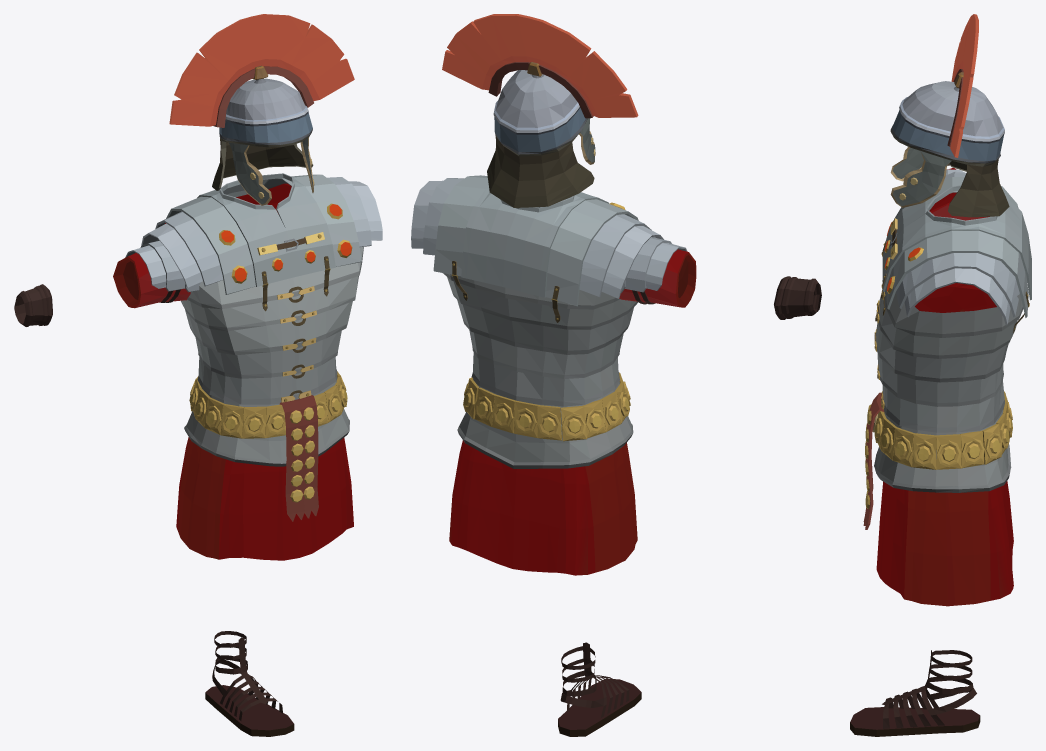
The model's file is romanArmor.glb.
3 renders of one model, left to right at view 1: azimuth 30°, elevation 25°; view 2: azimuth 150°, elevation 25°; view 3: azimuth 270°, elevation 25°, orthographic. The views are drawn at different scales.
Parts seen in each view (by area): view 1: romanArmor, romanGeneralHelmet, romanClothFootSoldier, romanArmorBelt, romanSandleManFootLeg, romanArmor.001, romanLowerArm; view 2: romanArmor, romanGeneralHelmet, romanClothFootSoldier, romanArmorBelt, romanArmor.001, romanSandleManFootLeg, romanLowerArm, romanSandleManLowerLeg; view 3: romanArmor, romanClothFootSoldier, romanGeneralHelmet, romanArmorBelt, romanSandleManFootLeg, romanSandleManLowerLeg, romanArmor.001.
Part boxes in pixels (left/top/right/bottom): romanArmor: left=141, top=173, right=382, bottom=466; romanGeneralHelmet: left=169, top=14, right=354, bottom=205; romanClothFootSoldier: left=165, top=183, right=353, bottom=560; romanArmorBelt: left=189, top=371, right=347, bottom=521; romanSandleManFootLeg: left=205, top=655, right=294, bottom=736; romanArmor.001: left=113, top=239, right=200, bottom=308; romanLowerArm: left=14, top=284, right=52, bottom=326; romanArmor: left=411, top=175, right=663, bottom=468; romanGeneralHelmet: left=442, top=14, right=638, bottom=207; romanClothFootSoldier: left=449, top=440, right=637, bottom=575; romanArmorBelt: left=463, top=372, right=630, bottom=441; romanArmor.001: left=619, top=236, right=696, bottom=307; romanSandleManFootLeg: left=558, top=670, right=641, bottom=736; romanLowerArm: left=774, top=276, right=821, bottom=319; romanSandleManLowerLeg: left=561, top=642, right=595, bottom=682; romanArmor: left=874, top=171, right=1031, bottom=492; romanClothFootSoldier: left=876, top=192, right=1013, bottom=606; romanGeneralHelmet: left=890, top=14, right=1009, bottom=217; romanArmorBelt: left=863, top=391, right=1012, bottom=529; romanSandleManFootLeg: left=850, top=675, right=980, bottom=736; romanSandleManLowerLeg: left=928, top=650, right=972, bottom=681; romanArmor.001: left=930, top=168, right=986, bottom=220.
Size of the model in its own units: 1.21 by 2.16 by 0.4959.
